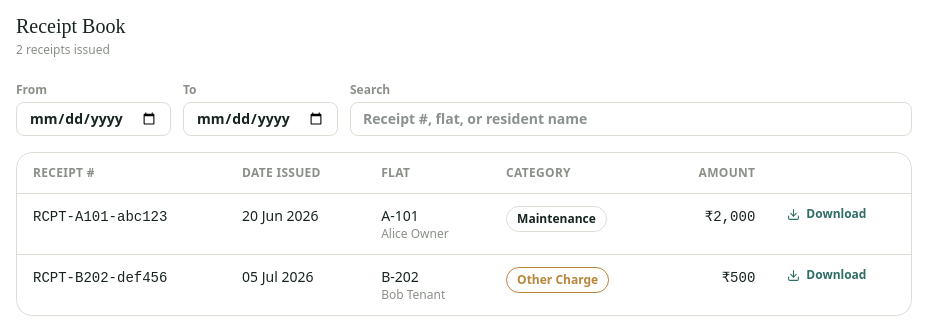
ReceiptBookPage › filters by date range
Expected: the text "RCPT-A101-abc123" is shown, x1=33 y1=209 x2=167 y2=225
Type "2026-07-01" into the date field labelled "From". click: (94, 119)
box: x1=16 y1=102 x2=171 y2=136
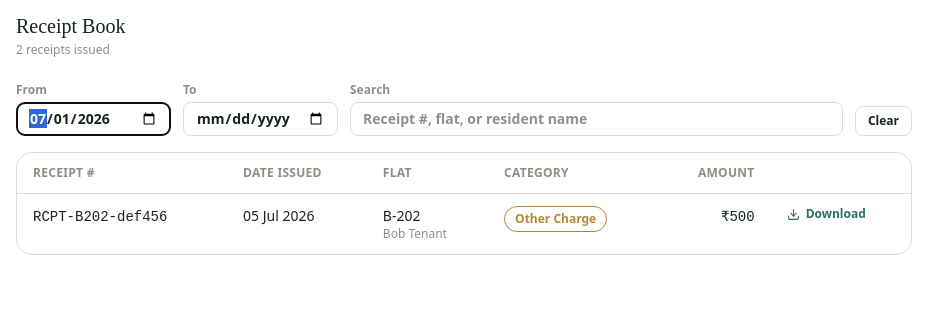
Expected: the text "RCPT-B202-def456" is shown, x1=33 y1=209 x2=167 y2=225
Now the text "RCPT-A101-abc123" is gone
